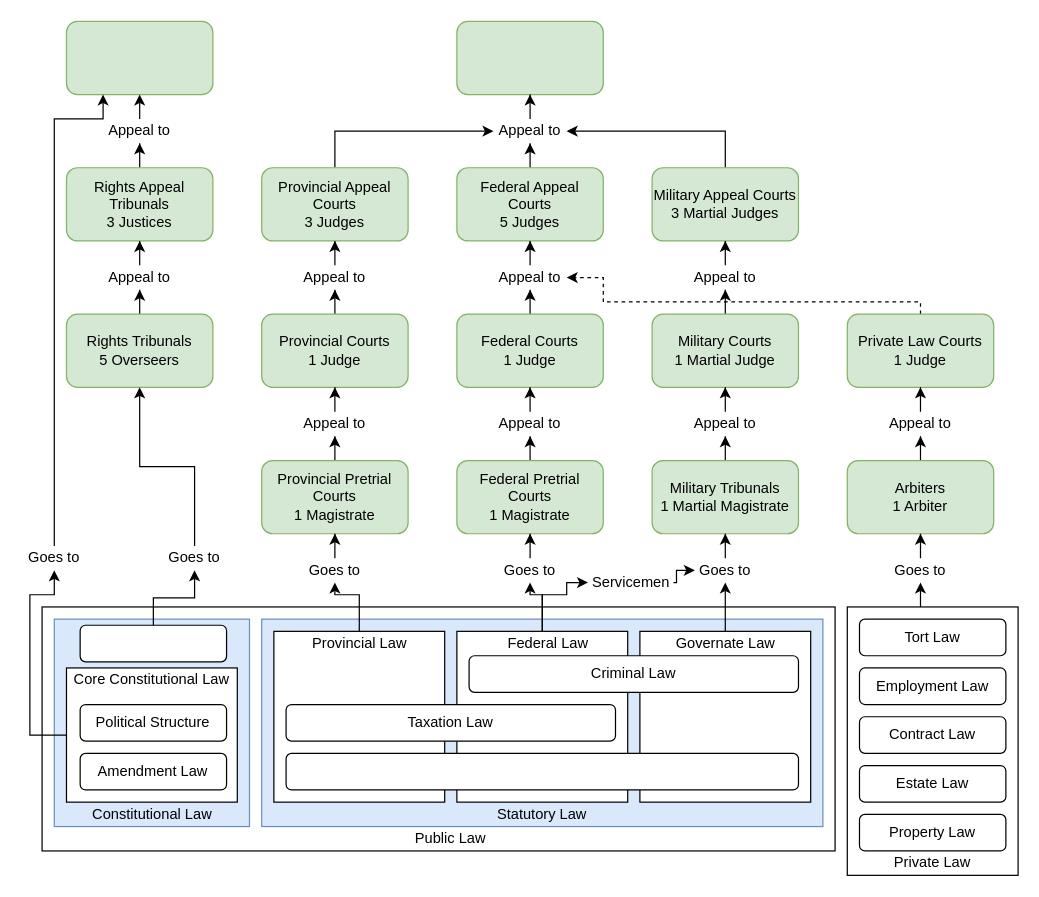
The diagram is 1039 pixels wide and 897 high, and some of its shapes have lost their labels. The centre of each missing label's shape, as x and y in pixels:
"Administrative Law" goes at (x=541, y=771).
"Constitutional Court 10 Justices" goes at (x=139, y=57).
"Rights Law" goes at (x=153, y=643).
"Supreme Court 7 Judges" goes at (x=529, y=57).
